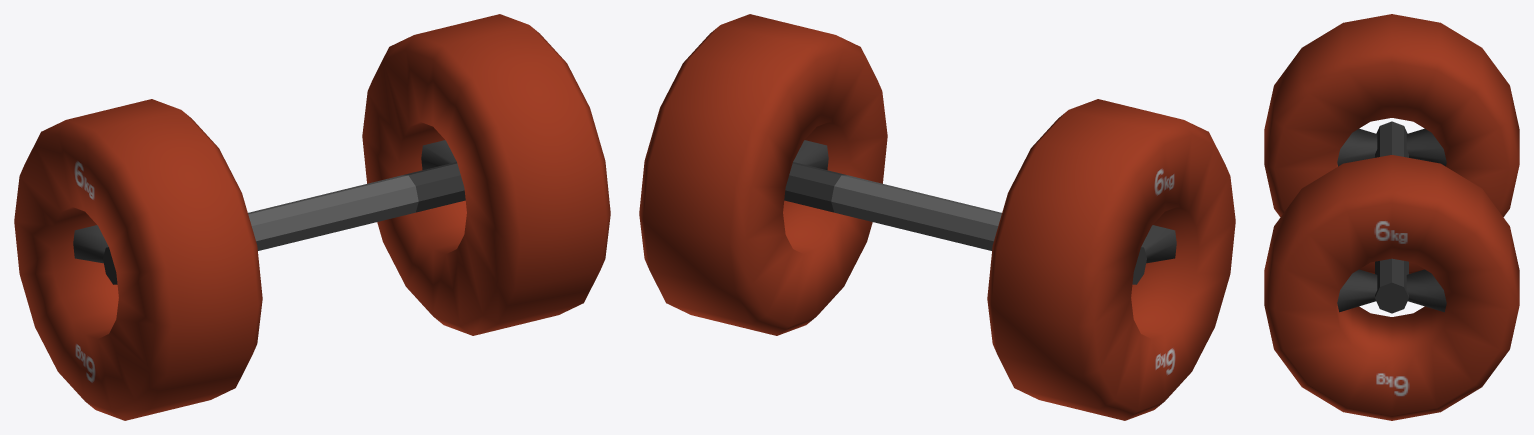
File: dumbbells-2.glb
3 renders of one model, left to right at view 1: azimuth 30°, elevation 25°; view 2: azimuth 150°, elevation 25°; view 3: azimuth 270°, elevation 25°, orthographic. The views are drawn at different scales.
Parts seen in each view (by area): view 1: Dumbbells_2; view 2: Dumbbells_2; view 3: Dumbbells_2.
Boxes of the visible parts, x1,y1,x2,y2 form: Dumbbells_2: (14,14,610,420); Dumbbells_2: (639,14,1235,420); Dumbbells_2: (1264,14,1519,420).
Size of the model in its own units: 39.94 by 23.42 by 23.42.
Materials: 1 (1 with a texture image).
